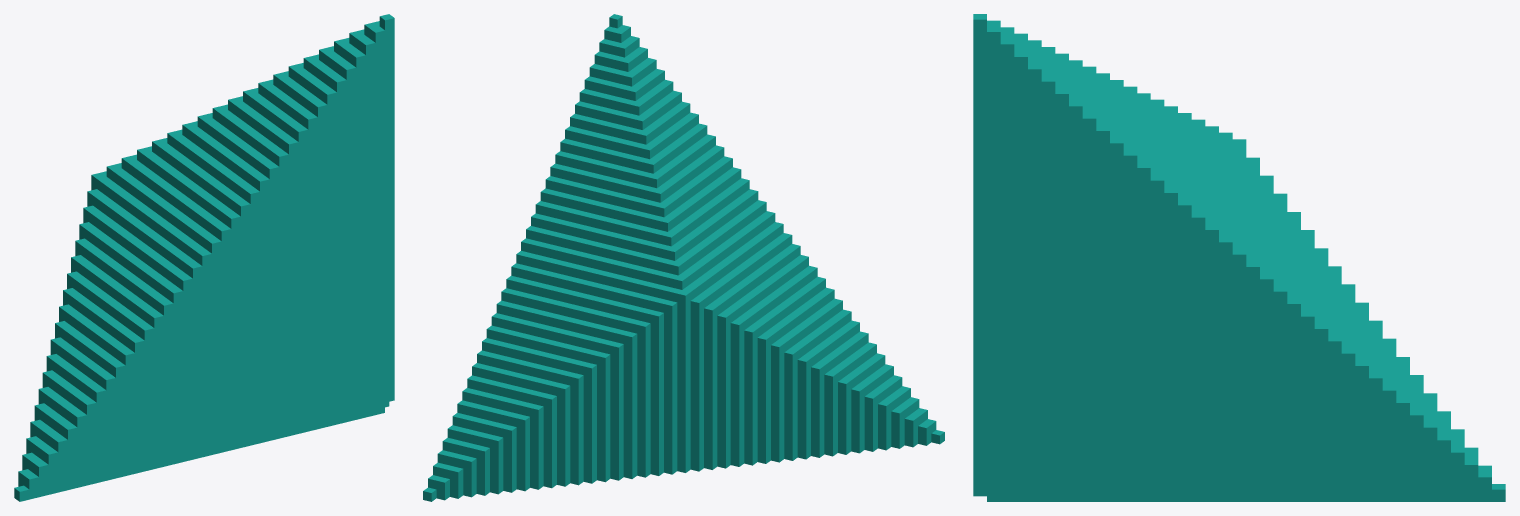
The model's file is crystal-4.obj.
3 views of the same model, side by side, from view 1: azimuth 30°, elevation 25°; view 2: azimuth 150°, elevation 25°; view 3: azimuth 270°, elevation 25° (orthographic). The views are drawn at different scales.
Bounding box in the file's own units: 3.9 × 3.9 × 3.9.
1 material, 1 textured.
